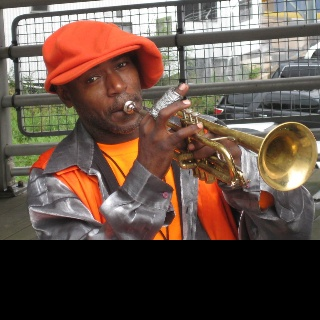without_mask: (52, 52, 142, 135)
